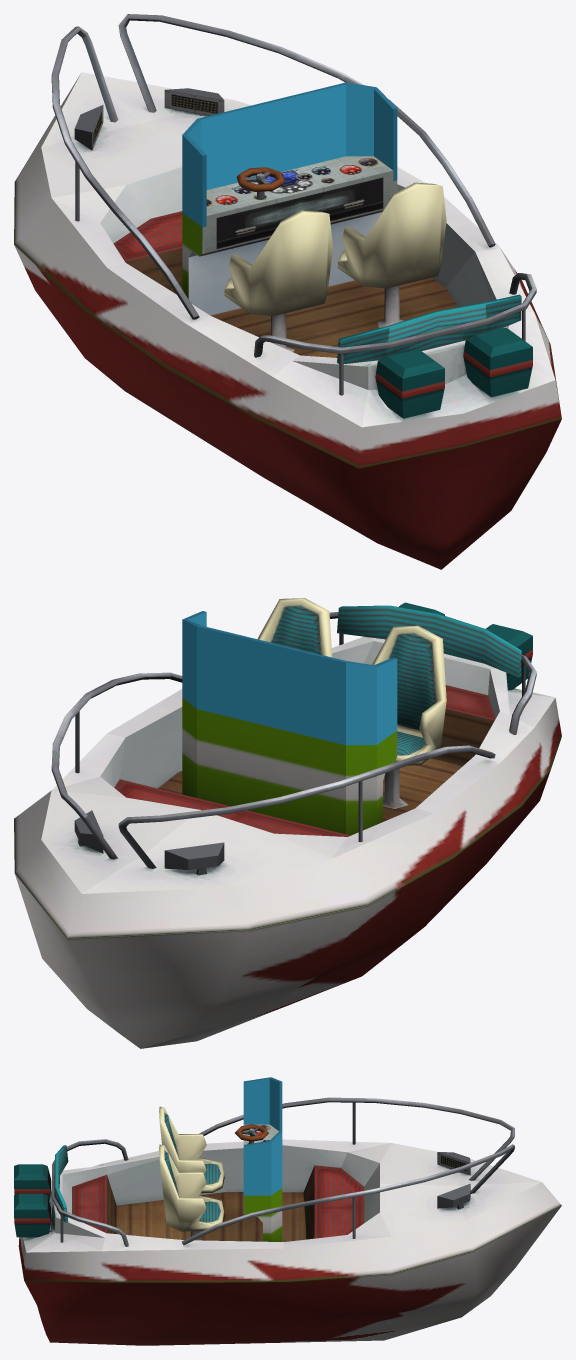
File: furni_0201014.FBX
The picture shows the model from 3 angles, top to bottom: view 1: azimuth 30°, elevation 25°; view 2: azimuth 150°, elevation 25°; view 3: azimuth 270°, elevation 25°; orthographic projection. The views are drawn at different scales.
Visible parts, largest first — view 1: furni_0201014; view 2: furni_0201014; view 3: furni_0201014.
Part boxes in pixels (x1,y1,x2,y2): furni_0201014: (14,14,561,569); furni_0201014: (14,598,561,1048); furni_0201014: (14,1077,561,1345).
Size of the model in its own units: 308 by 279 by 579.
Materials: 3 (3 with a texture image).
